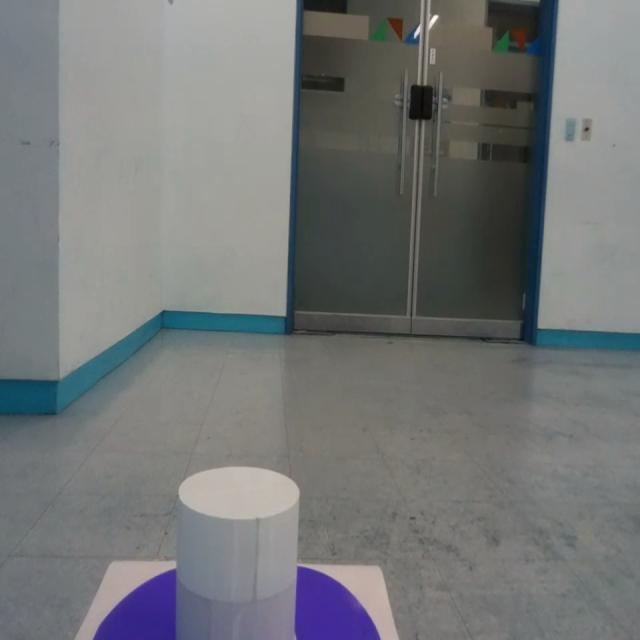cylinder: (175, 467, 301, 640)
